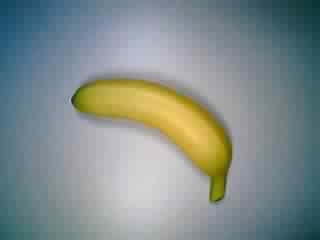banana: (66, 75, 240, 207)
